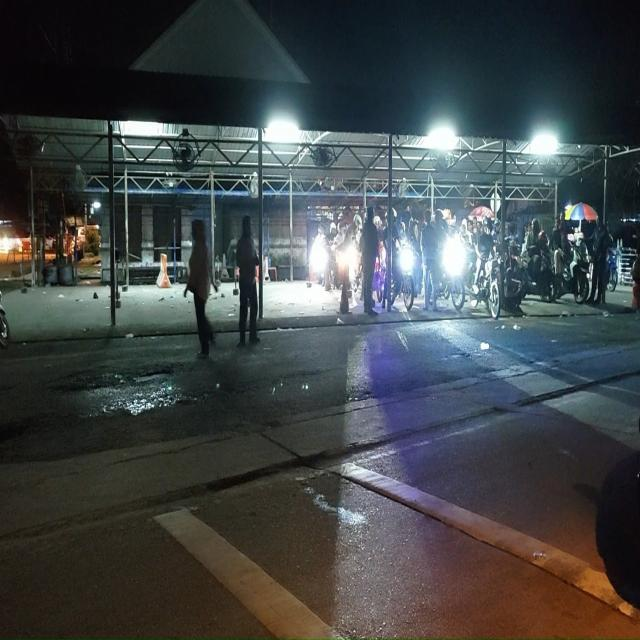Golongan II: (513, 245, 556, 302), (555, 242, 590, 304), (471, 249, 502, 319), (441, 236, 468, 310), (392, 242, 418, 311), (336, 241, 362, 292), (309, 236, 329, 284), (372, 242, 386, 303), (606, 247, 618, 292)
